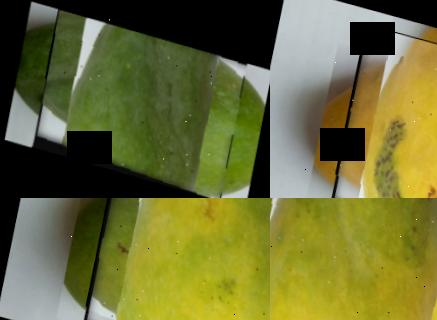PartiallyRipe: (72, 198, 270, 320), (270, 198, 437, 320)
Ripe: (321, 23, 437, 198)
Unripe: (28, 7, 250, 198)
